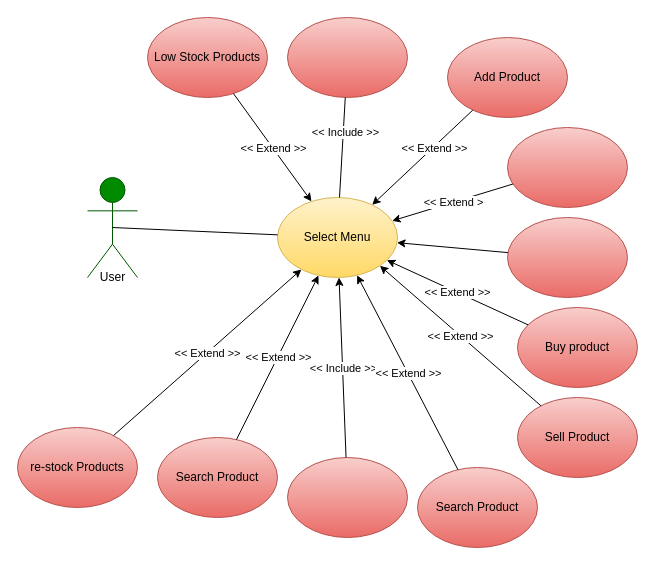
The diagram is 655 pixels wide and 565 high, and some of its shapes have lost their labels. The shapes that lost their labels are listed below. From the top down, each one's centre as x and y in pixels, then its label:
the point at 347,57: Print Heading
the point at 567,167: Remove a Product
the point at 567,257: Print all products
the point at 347,497: Quit The program
